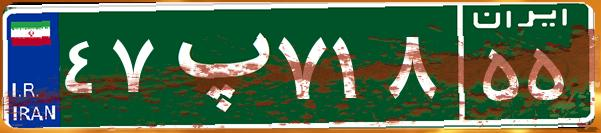1: (330, 28, 385, 110)
4: (57, 26, 110, 107)
5: (475, 38, 525, 113), (525, 38, 570, 115)
7: (273, 28, 330, 110), (110, 28, 158, 105)
8: (385, 28, 445, 110)
پ: (158, 15, 273, 115)
